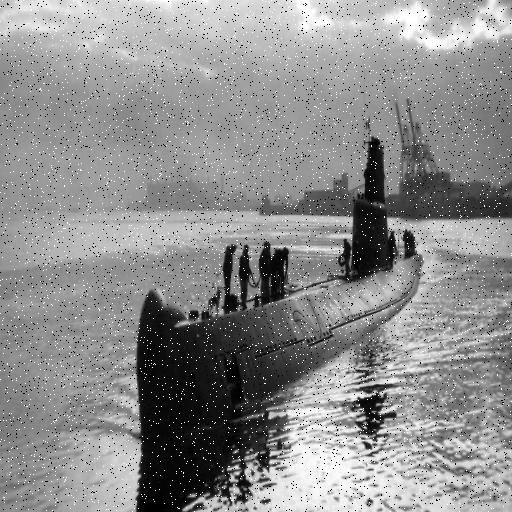submarine: (141, 141, 425, 446)
